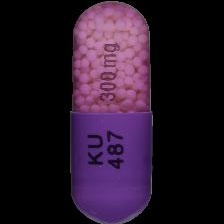62175-487: (0, 0, 224, 224)
